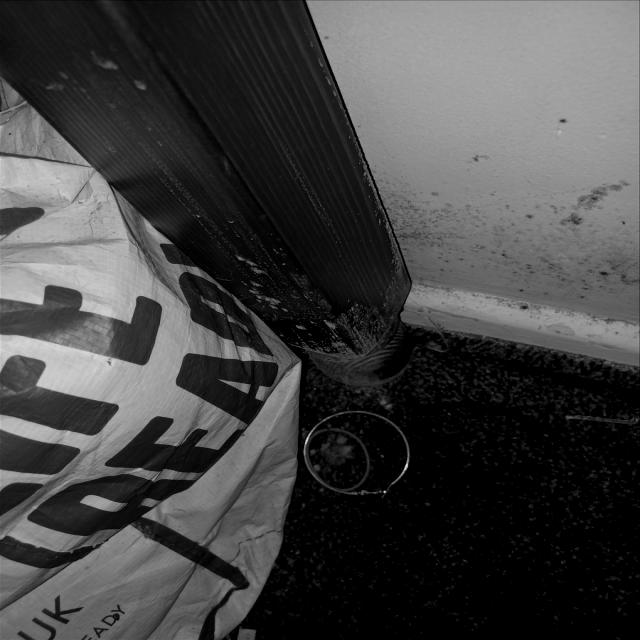stain marks: (371, 95, 640, 358)
